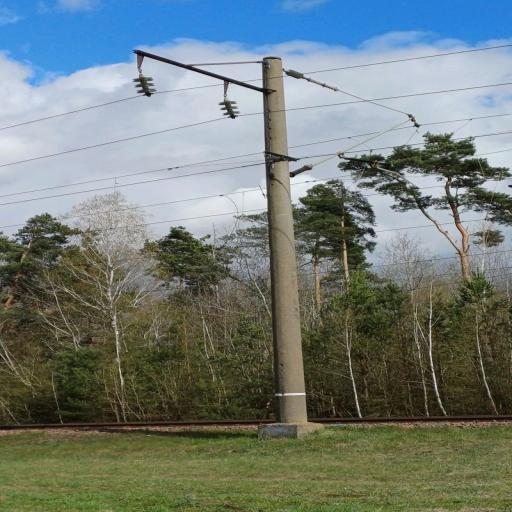elevator: (118, 45, 437, 443)
